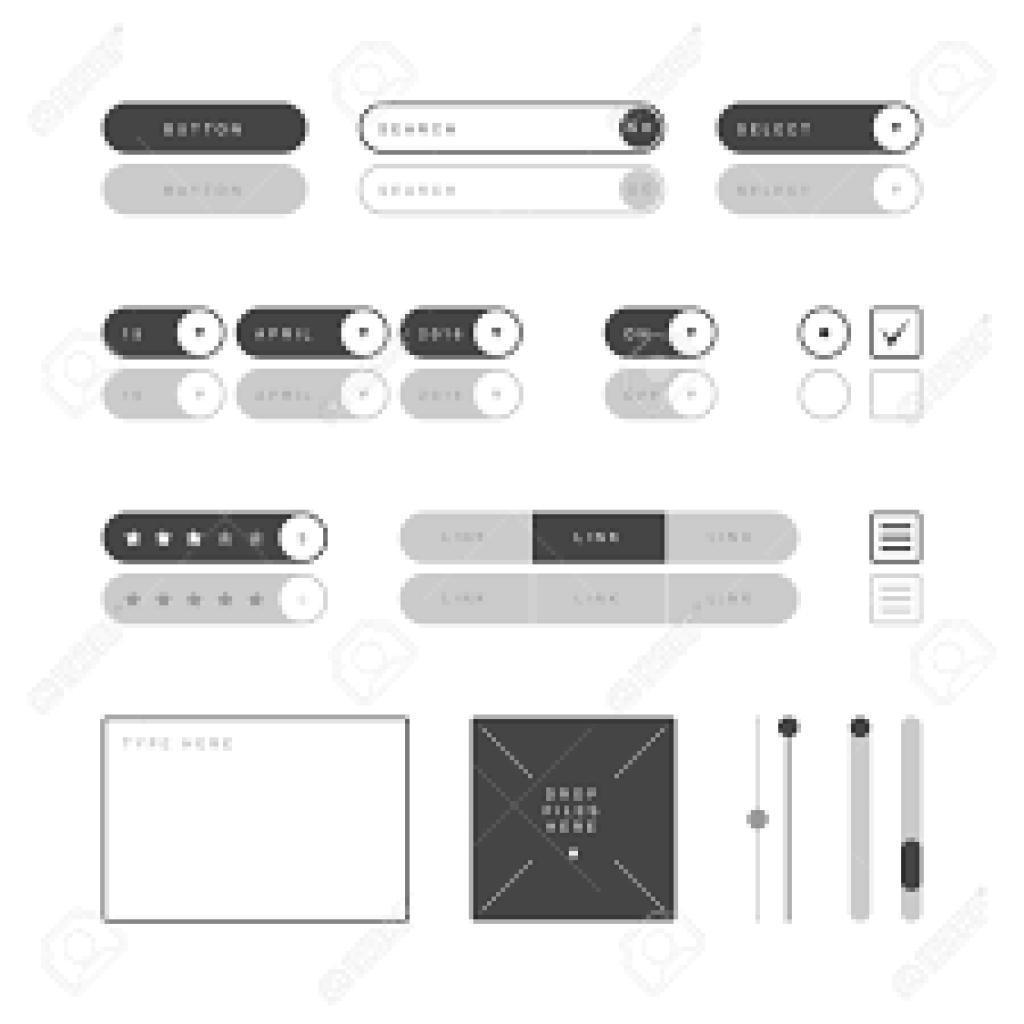button: (102, 158, 311, 222), (99, 101, 309, 153)
checkbox: (870, 304, 923, 362), (868, 371, 927, 419)
input: (363, 95, 672, 158), (359, 163, 669, 218)
radio: (798, 299, 857, 359), (797, 370, 859, 427)
slider: (774, 705, 818, 925), (892, 699, 934, 923), (840, 704, 881, 921), (738, 704, 776, 926)
switch: (237, 362, 390, 424), (239, 305, 389, 367), (96, 361, 224, 430), (393, 306, 527, 366), (97, 302, 232, 361), (600, 365, 726, 428), (605, 304, 722, 362), (403, 368, 526, 422)
